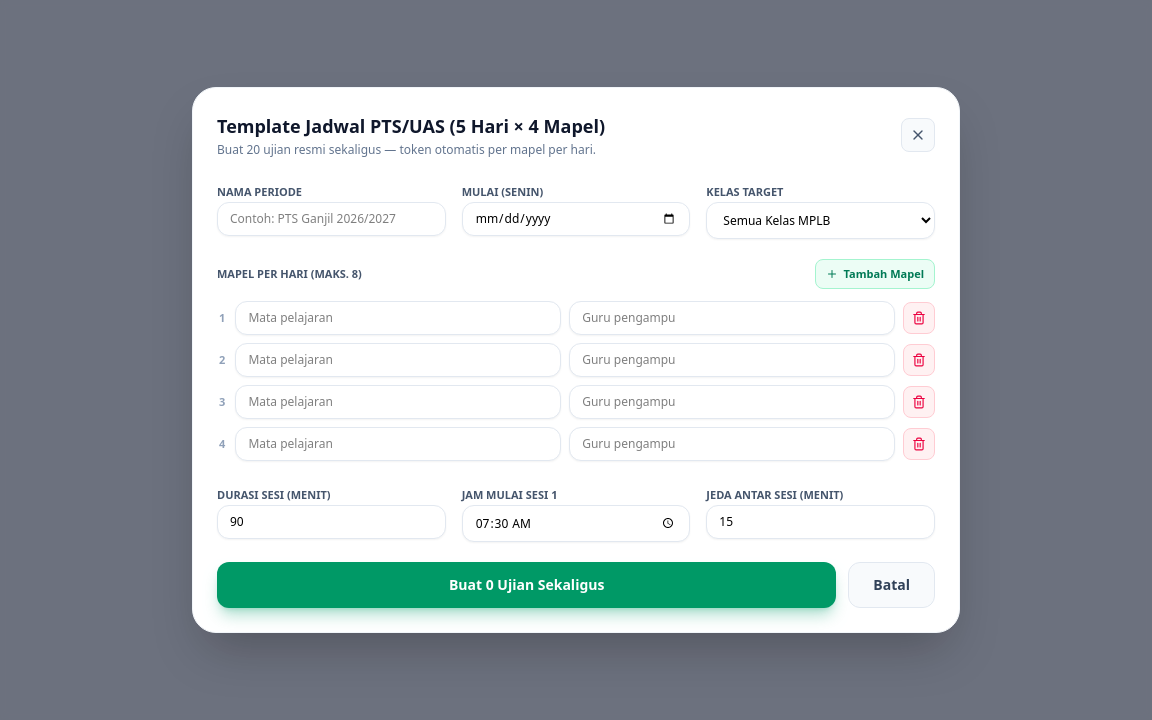
Test: CbtBulkScheduleModal › menampilkan error saat validasi gagal di client
Click the button "Buat 0 Ujian Sekaligus".
click(527, 585)  # box [217,562,836,608]
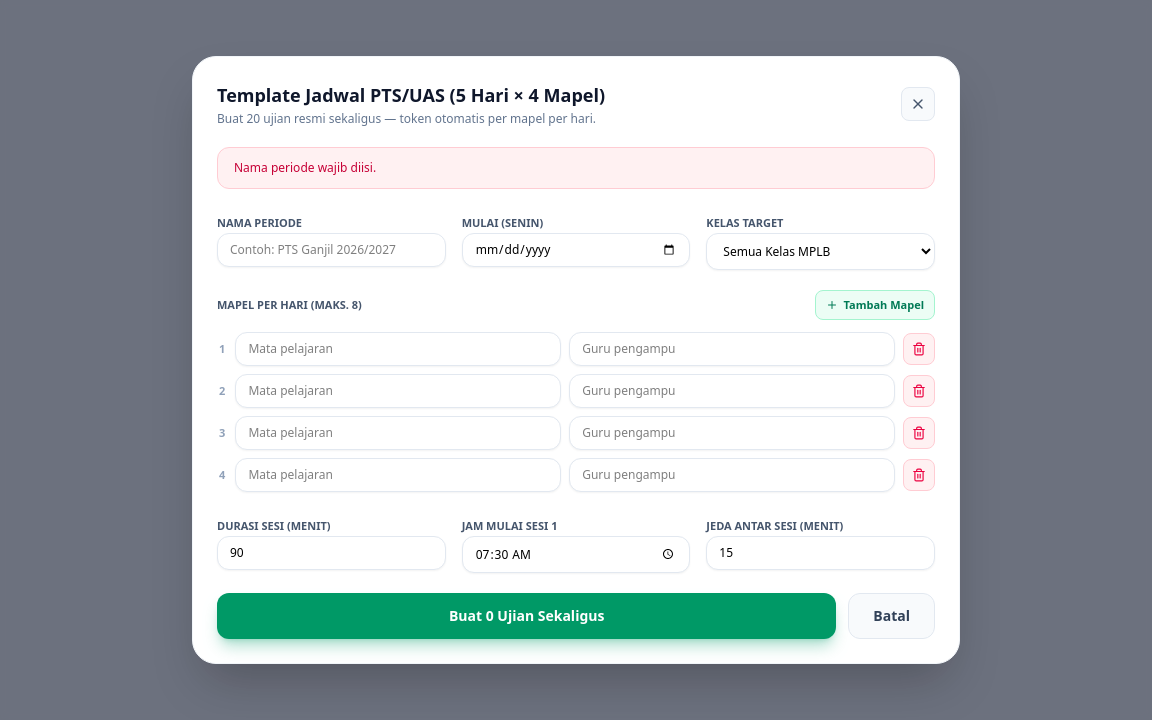
Check: the text "Nama periode wajib diisi." is shown, box [217,147,935,189]
